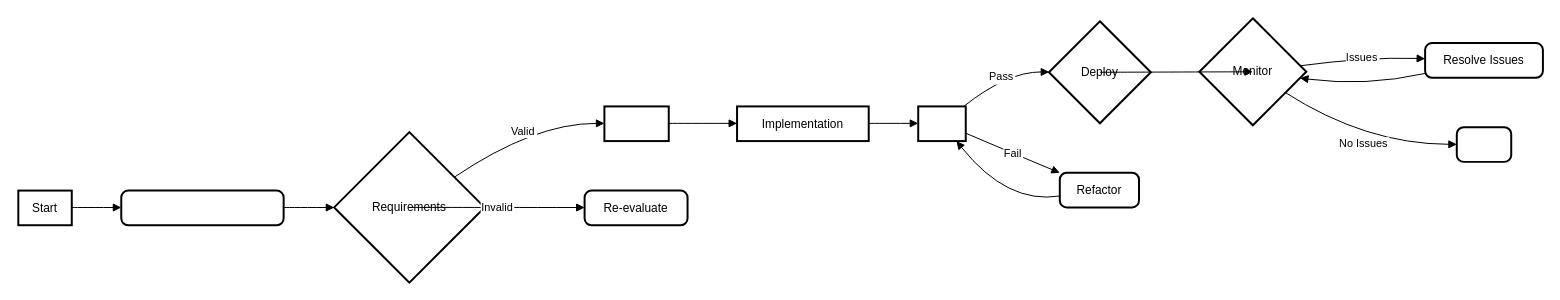
Image size: 1560x300. Some labels were removed from this diagram. The shapes that lost their labels are listed below. From the top down, each one's centre as x and y in pixels, then its label:
At point 636,123: "Design".
At point 941,123: "Test".
At point 1483,144: "Done".
At point 202,207: "Sequence Controller".
